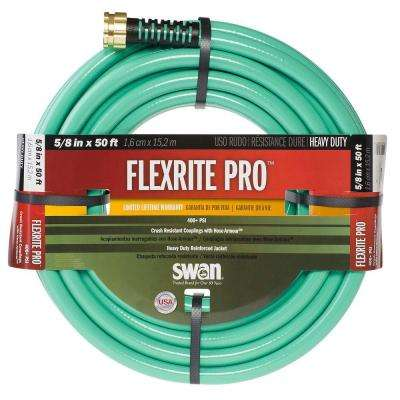Nonrec_Tangler: (17, 1, 386, 374)
